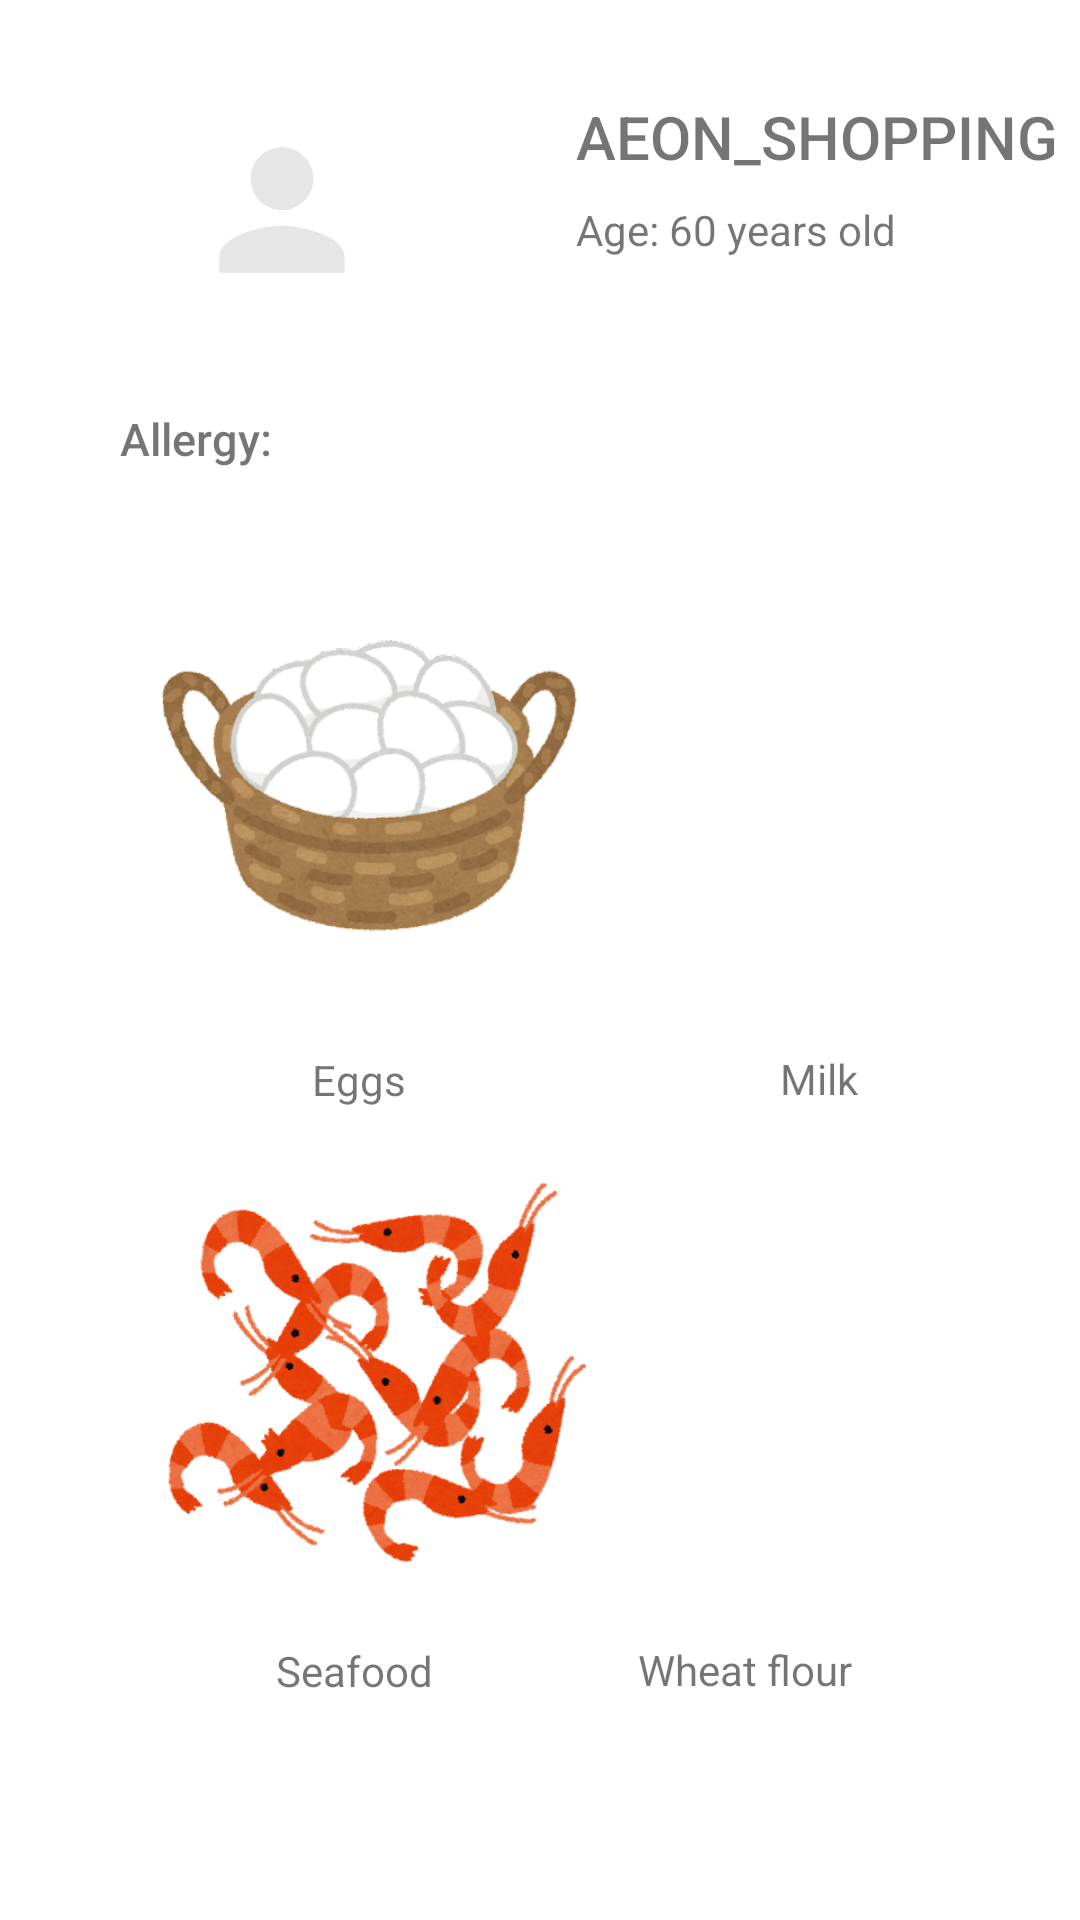

Screen size 1080x1920. Icon name, then its box in pixels as (x1, y1, x2, y2):
account: (220, 148, 344, 272)
